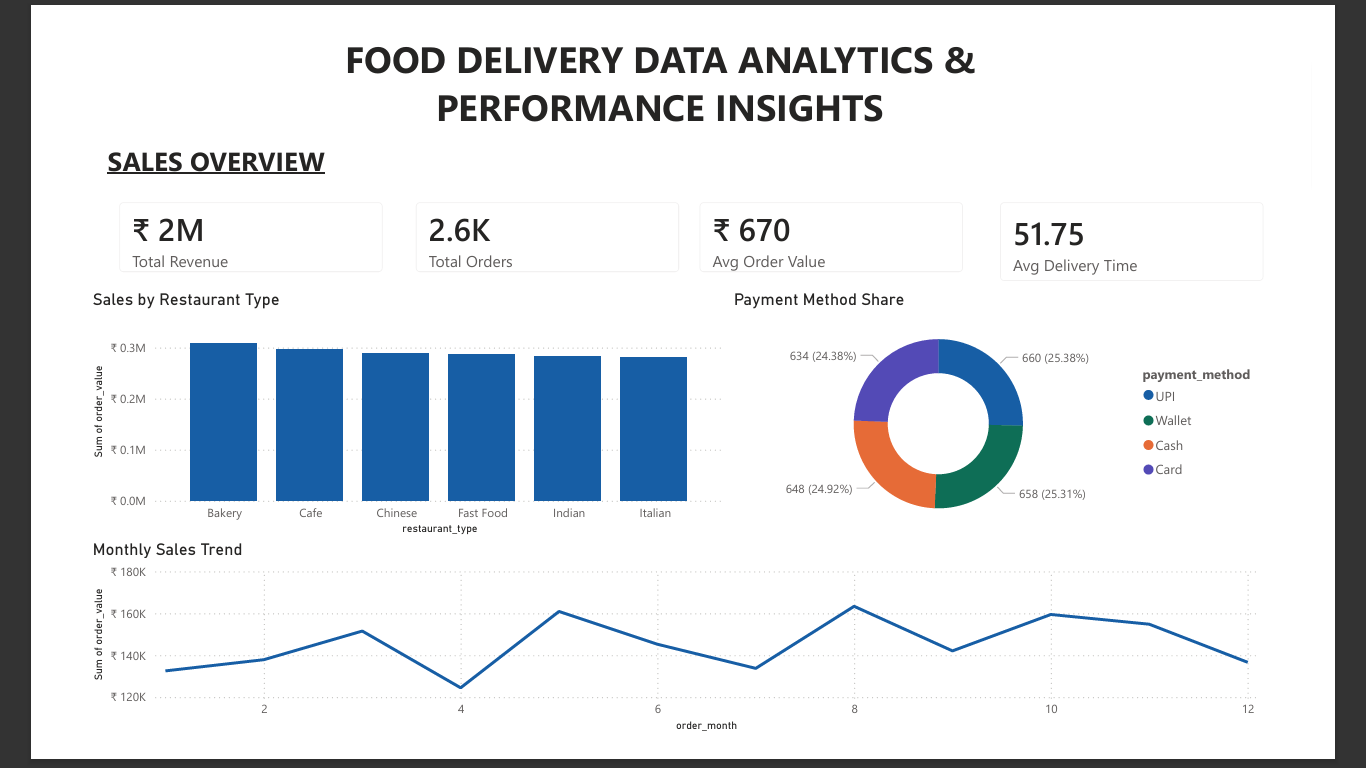

The page's visual inventory and layout, read from the dashboard file:
{"tool":"powerbi","page":{"name":"Sales Overview","canvas":[1280,720],"ordinal":0},"visuals":[{"type":"cardVisual","fields":{"Data":["Sum(food_delivery_processed.order_value)"]},"box":[34.3,77.1,302.9,124.3],"z":0},{"type":"cardVisual","fields":{"Data":["CountNonNull(food_delivery_processed.order_id)"]},"box":[337.1,77.1,302.9,124.3],"z":1000},{"type":"cardVisual","fields":{"Data":["Avg(food_delivery_processed.order_value)"]},"box":[624.3,77.1,302.9,124.3],"z":2000},{"type":"cardVisual","fields":{"Data":["Avg(food_delivery_processed.delivery_time_minutes)"]},"box":[927.1,77.1,302.9,124.3],"z":3000},{"type":"clusteredColumnChart","title":"Sales by Restaurant Type","fields":{"Category":["food_delivery_processed.restaurant_type"],"Y":["Sum(food_delivery_processed.order_value)"]},"box":[34.3,201.4,652.9,287.1],"z":4000},{"type":"donutChart","title":"Payment Method Share","fields":{"Category":["food_delivery_processed.payment_method"],"Y":["CountNonNull(food_delivery_processed.order_id)"]},"box":[687.1,201.4,542.9,287.1],"z":5000},{"type":"lineChart","title":"Monthly  Sales Trend","fields":{"Category":["food_delivery_processed.order_month"],"Y":["Sum(food_delivery_processed.order_value)"]},"box":[34.3,488.6,1195.7,231.4],"z":6000},{"type":"textbox","box":[288.6,0,670,77.1],"z":7000}]}

Visuals, with their boxes in screenshot pixels (x1, y1, x2, y2), scaled from the page's 1280x720 canvas onto the 1366x768 screenshot:
cardVisual - Sum(food_delivery_processed.order_value): {"left": 37, "top": 82, "right": 360, "bottom": 215}
cardVisual - CountNonNull(food_delivery_processed.order_id): {"left": 360, "top": 82, "right": 683, "bottom": 215}
cardVisual - Avg(food_delivery_processed.order_value): {"left": 666, "top": 82, "right": 989, "bottom": 215}
cardVisual - Avg(food_delivery_processed.delivery_time_minutes): {"left": 989, "top": 82, "right": 1313, "bottom": 215}
"Sales by Restaurant Type" clusteredColumnChart: {"left": 37, "top": 215, "right": 733, "bottom": 521}
"Payment Method Share" donutChart: {"left": 733, "top": 215, "right": 1313, "bottom": 521}
"Monthly  Sales Trend" lineChart: {"left": 37, "top": 521, "right": 1313, "bottom": 767}
textbox: {"left": 308, "top": 0, "right": 1023, "bottom": 82}
